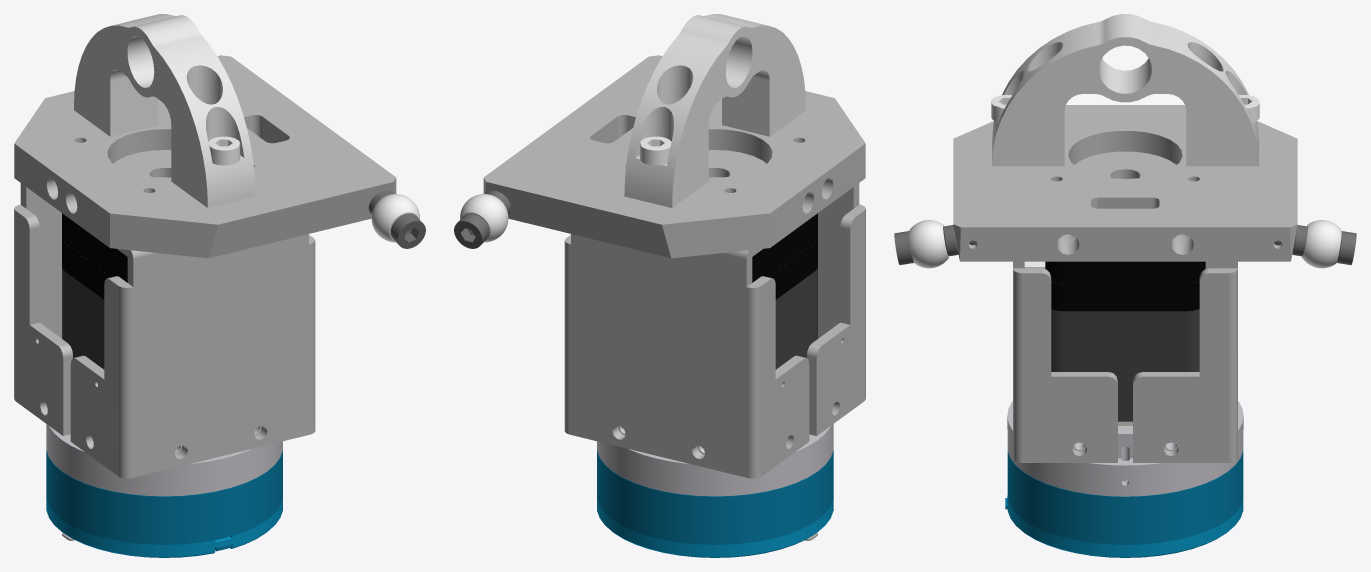
Rendered from hip_sphere_link.dae.
3 views of the same model, side by side, from view 1: azimuth 30°, elevation 25°; view 2: azimuth 150°, elevation 25°; view 3: azimuth 270°, elevation 25° (orthographic).
Parts seen in each view (by area): view 1: FBXASC227FBXASC130FBXASC189FBXASC227FBXASC131FBXASC170FBXASC (×11); view 2: FBXASC227FBXASC130FBXASC189FBXASC227FBXASC131FBXASC170FBXASC (×11); view 3: FBXASC227FBXASC130FBXASC189FBXASC227FBXASC131FBXASC170FBXASC (×10).
Boxes of the visible parts, box(x1,y1,x2,y2) form: FBXASC227FBXASC130FBXASC189FBXASC227FBXASC131FBXASC170FBXASC (×11): box(14, 14, 425, 557); FBXASC227FBXASC130FBXASC189FBXASC227FBXASC131FBXASC170FBXASC (×11): box(454, 14, 865, 557); FBXASC227FBXASC130FBXASC189FBXASC227FBXASC131FBXASC170FBXASC (×10): box(909, 14, 1341, 557).
Size of the model in its own units: 0.0773 by 0.1213 by 0.1419.
